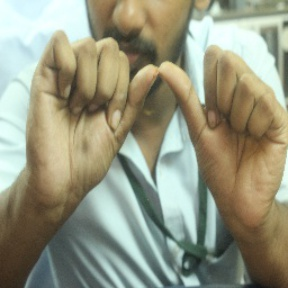A: (86, 35, 242, 184)
